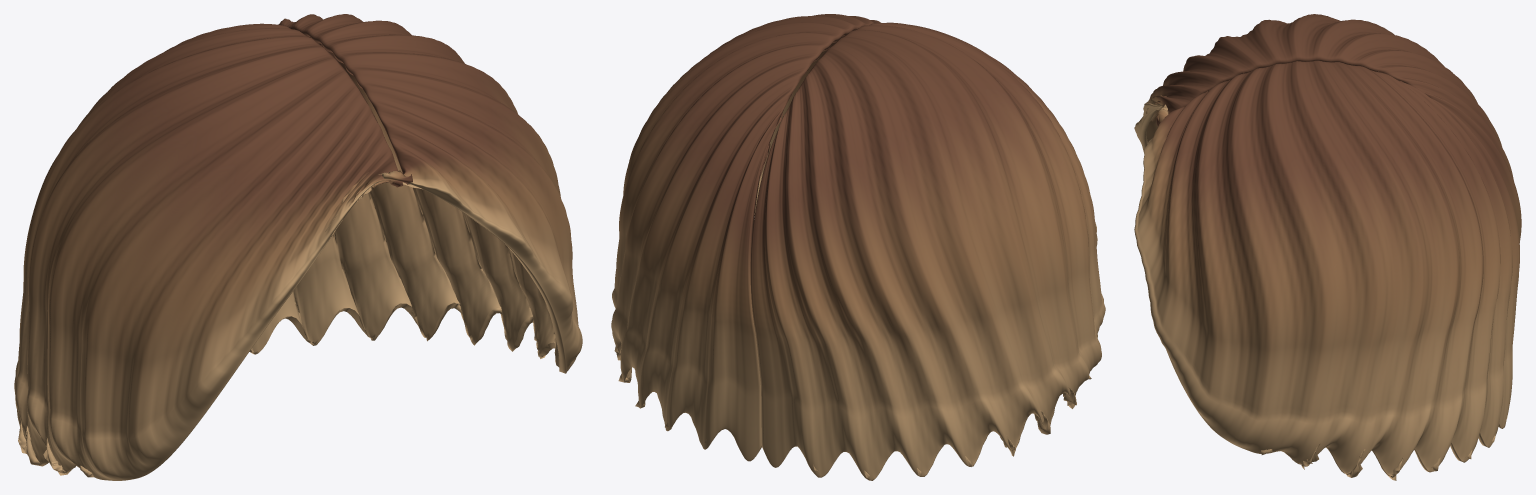
File: Ombre-96ada1a2b61a253-hair.glb
3 renders of one model, left to right at view 1: azimuth 30°, elevation 25°; view 2: azimuth 150°, elevation 25°; view 3: azimuth 270°, elevation 25°, orthographic. The views are drawn at different scales.
Visible parts, largest first — view 1: 226 hair / Hair252 / flowing sculpt flow; view 2: 226 hair / Hair252 / flowing sculpt flow; view 3: 226 hair / Hair252 / flowing sculpt flow.
Part boxes in pixels (left/top/right/bottom): 226 hair / Hair252 / flowing sculpt flow: left=14, top=14, right=582, bottom=480; 226 hair / Hair252 / flowing sculpt flow: left=611, top=14, right=1105, bottom=480; 226 hair / Hair252 / flowing sculpt flow: left=1134, top=14, right=1521, bottom=480.
Bounding box in the file's own units: 1.11 × 0.8603 × 0.8447.
Materials: 1 (1 with a texture image).
